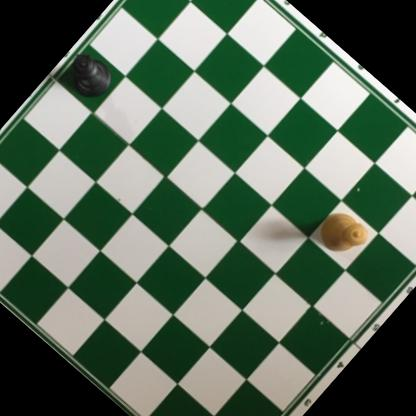black-queen: (57, 45, 120, 107)
white-queen: (313, 204, 373, 265)
